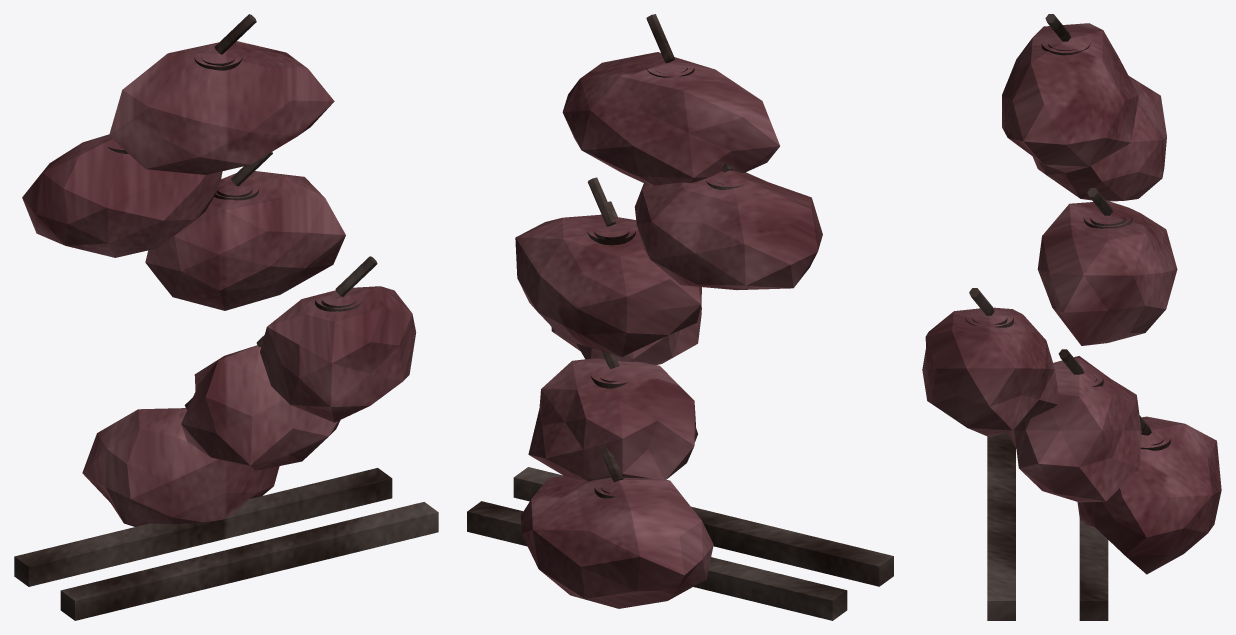
Rendered from 0816_sack_stack_16.glb.
3 renders of one model, left to right at view 1: azimuth 30°, elevation 25°; view 2: azimuth 150°, elevation 25°; view 3: azimuth 270°, elevation 25°, orthographic.
Parts seen in each view (by area): view 1: cloth, wood_dark; view 2: cloth, wood_dark; view 3: cloth, wood_dark.
Part boxes in pixels (bbox=[...]): cloth: bbox=[22, 41, 416, 526]; wood_dark: bbox=[14, 14, 438, 620]; cloth: bbox=[515, 52, 822, 608]; wood_dark: bbox=[467, 14, 893, 620]; cloth: bbox=[922, 23, 1221, 574]; wood_dark: bbox=[965, 14, 1170, 620].
Size of the model in its own units: 1.9 by 2.76 by 1.36.
Materials: 2 (2 with a texture image).
